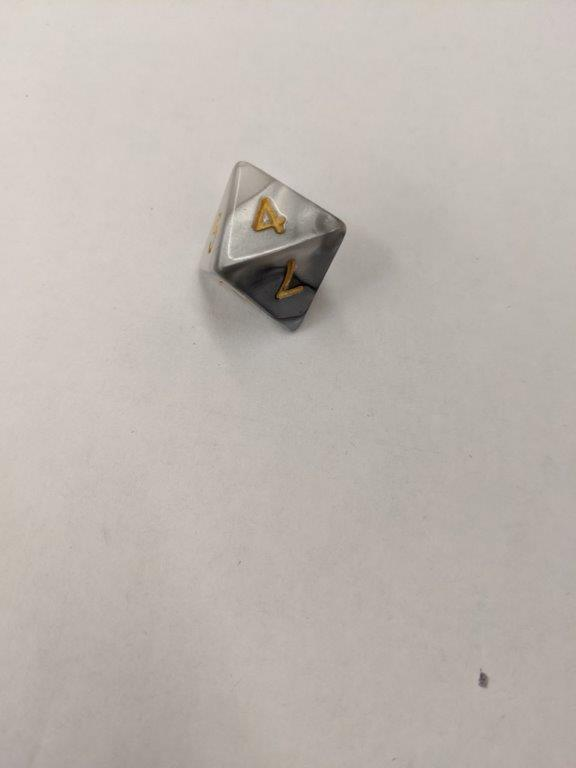d8-4: (197, 157, 349, 336)
